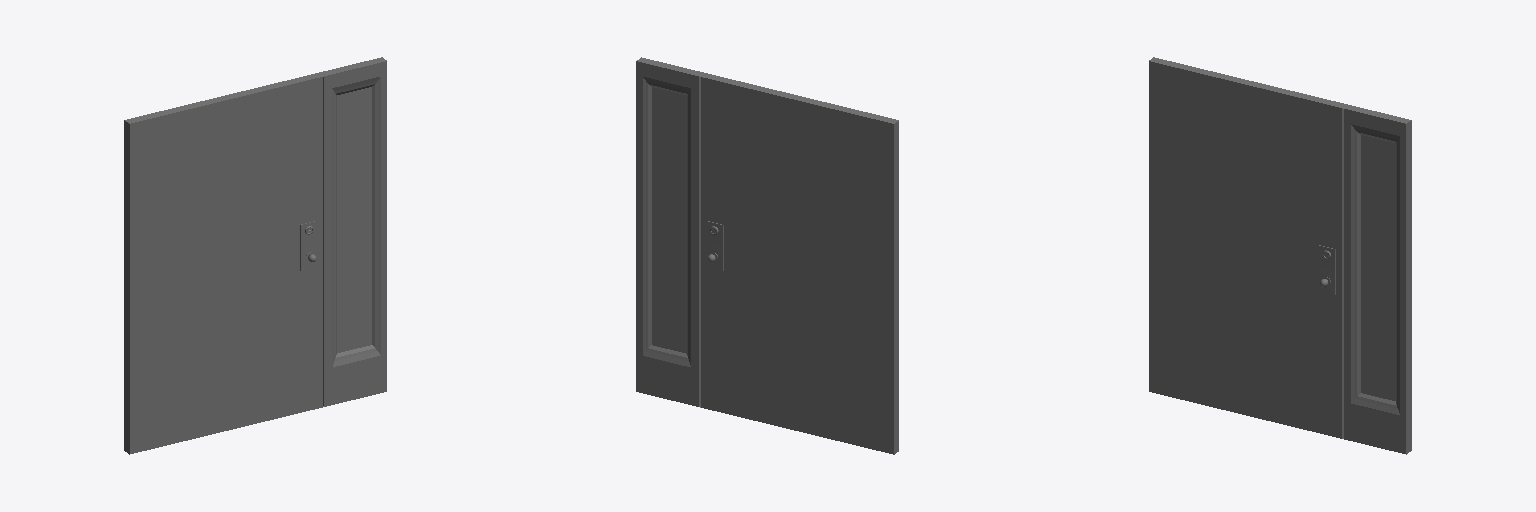
File: doorwithwindow.obj
The picture shows the model from 3 angles: view 1: azimuth 30°, elevation 25°; view 2: azimuth 150°, elevation 25°; view 3: azimuth 330°, elevation 25°; orthographic projection.
Parts seen in each view (by area): view 1: WindowDoor polySurface4, WindowDoor polySurface5; view 2: WindowDoor polySurface4, WindowDoor polySurface6; view 3: WindowDoor polySurface4, WindowDoor polySurface5.
Part boxes in pixels (x1,y1,x2,y2): WindowDoor polySurface4: (124,57,386,454); WindowDoor polySurface5: (337,87,371,352); WindowDoor polySurface4: (636,57,898,454); WindowDoor polySurface6: (652,87,686,353); WindowDoor polySurface4: (1149,57,1411,454); WindowDoor polySurface5: (1361,135,1395,400).
Size of the model in its own units: 173 by 212 by 19.12.